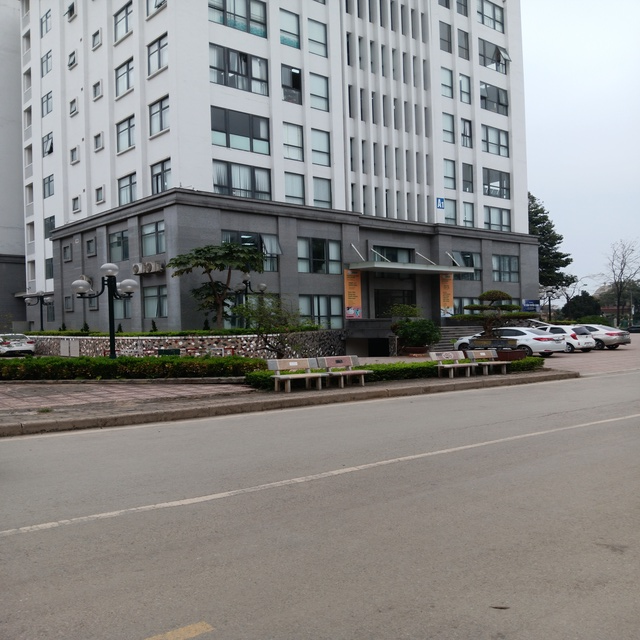gheda: (258, 355, 330, 400), (312, 349, 380, 390), (459, 347, 519, 379), (425, 347, 475, 384)
